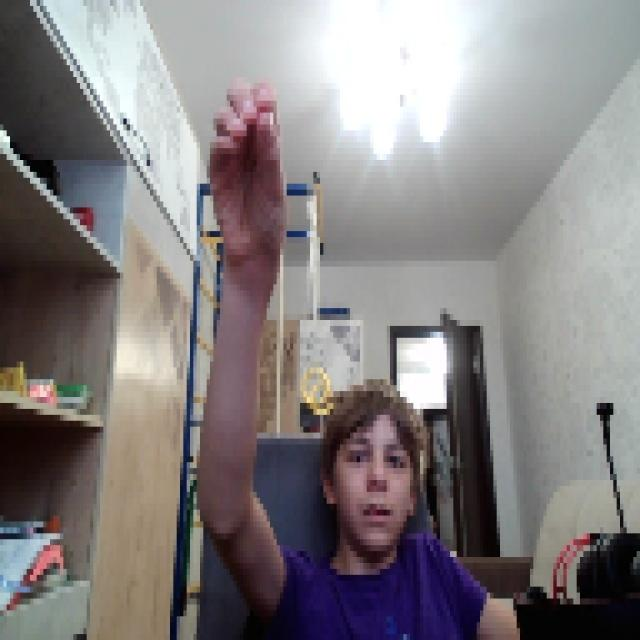left_click: (203, 77, 287, 261)
